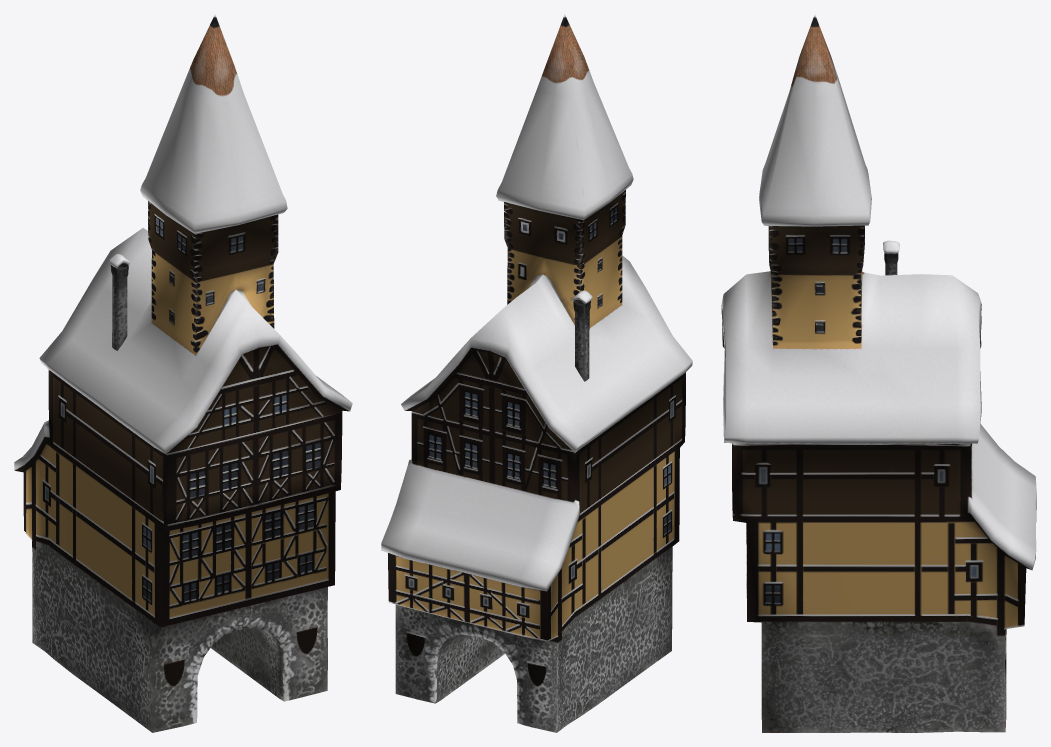
File: House-4.FBX
The picture shows the model from 3 angles, left to right: view 1: azimuth 30°, elevation 25°; view 2: azimuth 150°, elevation 25°; view 3: azimuth 270°, elevation 25°; orthographic projection. The views are drawn at different scales.
Parts seen in each view (by area): view 1: House-4; view 2: House-4; view 3: House-4.
Boxes of the visible parts, x1,y1,x2,y2 form: House-4: (14, 14, 352, 732); House-4: (381, 14, 692, 732); House-4: (721, 14, 1036, 732).
Size of the model in its own units: 32.69 by 112 by 47.3.
1 material, 1 textured.
